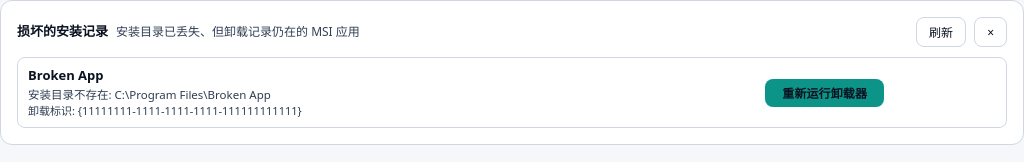
Test: re-runs the vendor uninstaller and rescans afterwards
Expected: the text "Broken App" is shown, [28, 66, 104, 84]
Click the button "重新运行卸载器": (825,93) [765, 79, 884, 107]
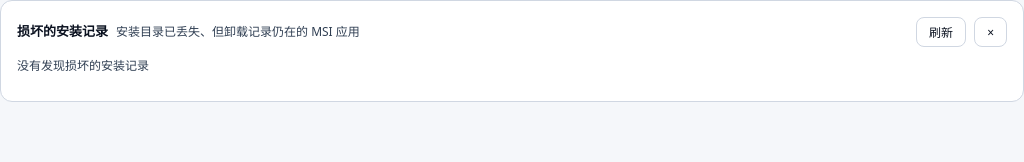
Result: the text "没有发现损坏的安装记录" is shown at [17, 57, 149, 74]
